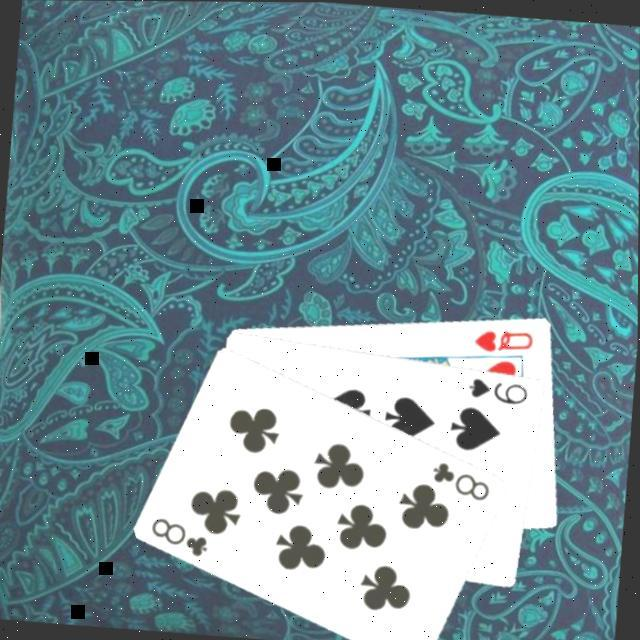8C: (426, 456, 494, 502), (145, 512, 213, 558)
9S: (464, 371, 532, 406)
QH: (469, 322, 536, 356)
